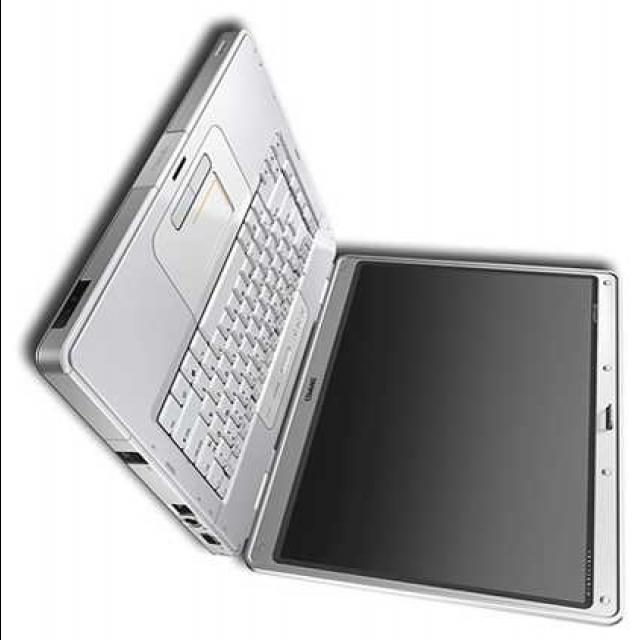laptop: (48, 9, 632, 606)
